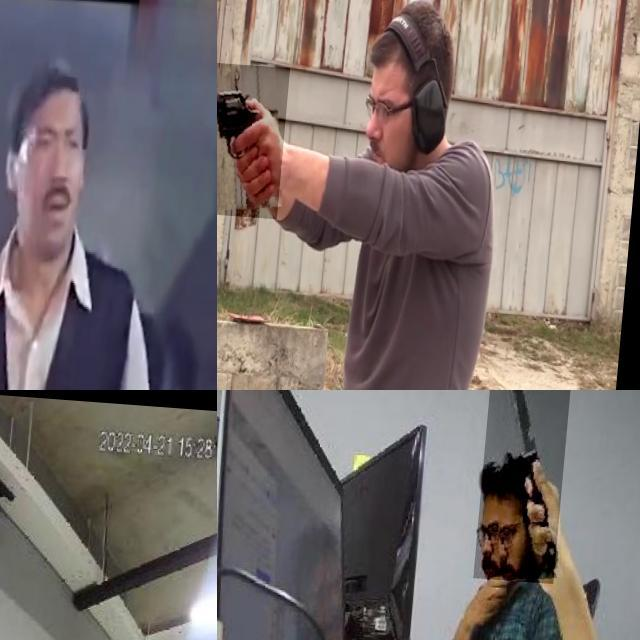-: (480, 390, 579, 576)
gun-knife-thesis - v11 Yolov5 augmented: (0, 79, 61, 303), (217, 56, 292, 214)
